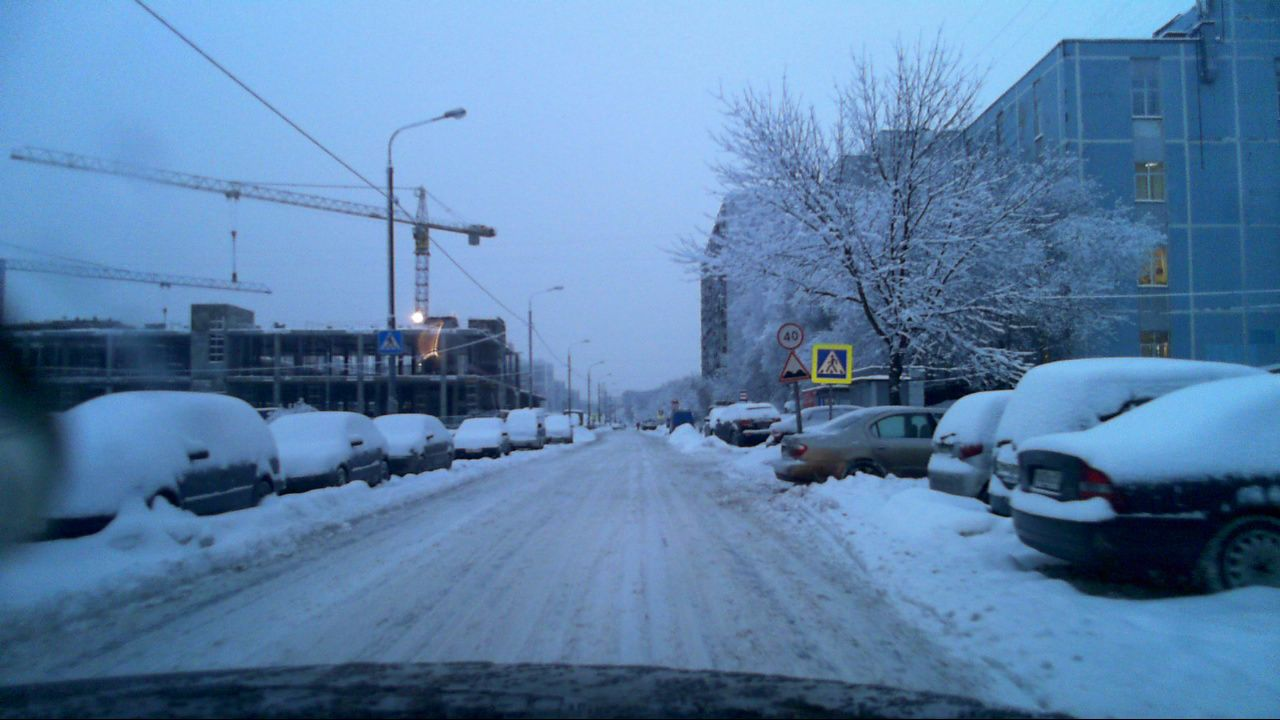speed_warning_40: (774, 323, 804, 348)
